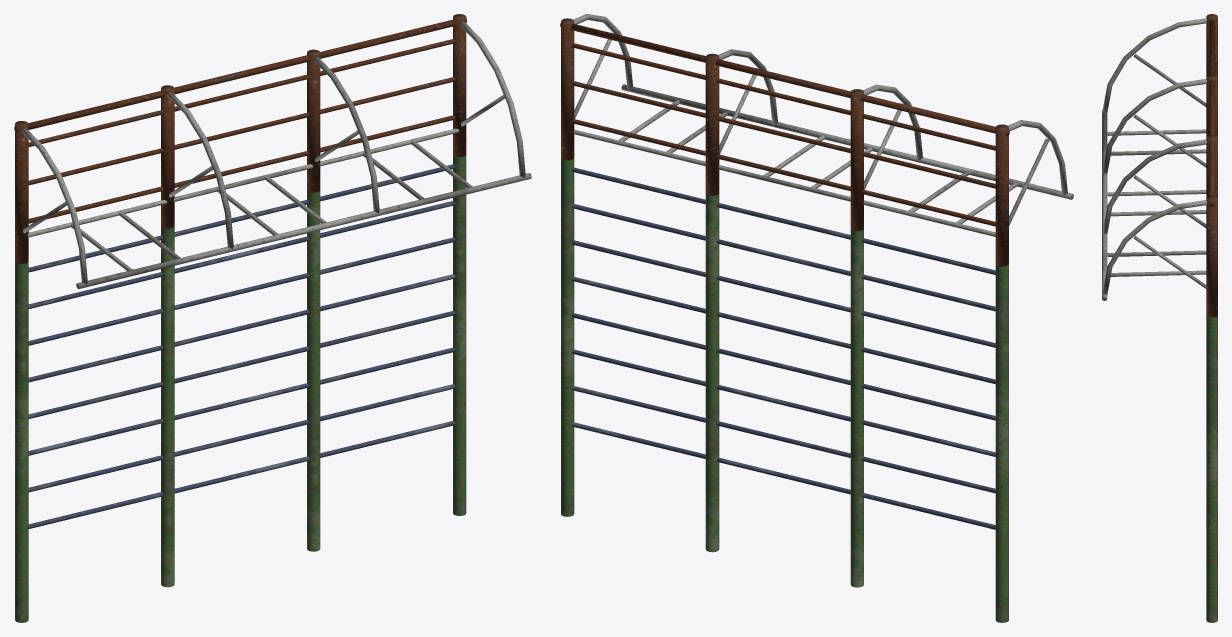
The model's file is playground_wall_bars_web.glb.
3 views of the same model, side by side, from view 1: azimuth 30°, elevation 25°; view 2: azimuth 150°, elevation 25°; view 3: azimuth 270°, elevation 25° (orthographic). The views are drawn at different scales.
Parts seen in each view (by area): view 1: WallBars_Mesh; view 2: WallBars_Mesh; view 3: WallBars_Mesh.
Part boxes in pixels (x1,y1,x2,y2): WallBars_Mesh: (14,14,531,622); WallBars_Mesh: (560,14,1073,622); WallBars_Mesh: (1102,14,1217,622).
Size of the model in its own units: 3.1 by 3.25 by 0.808.
4 materials, 4 textured.
